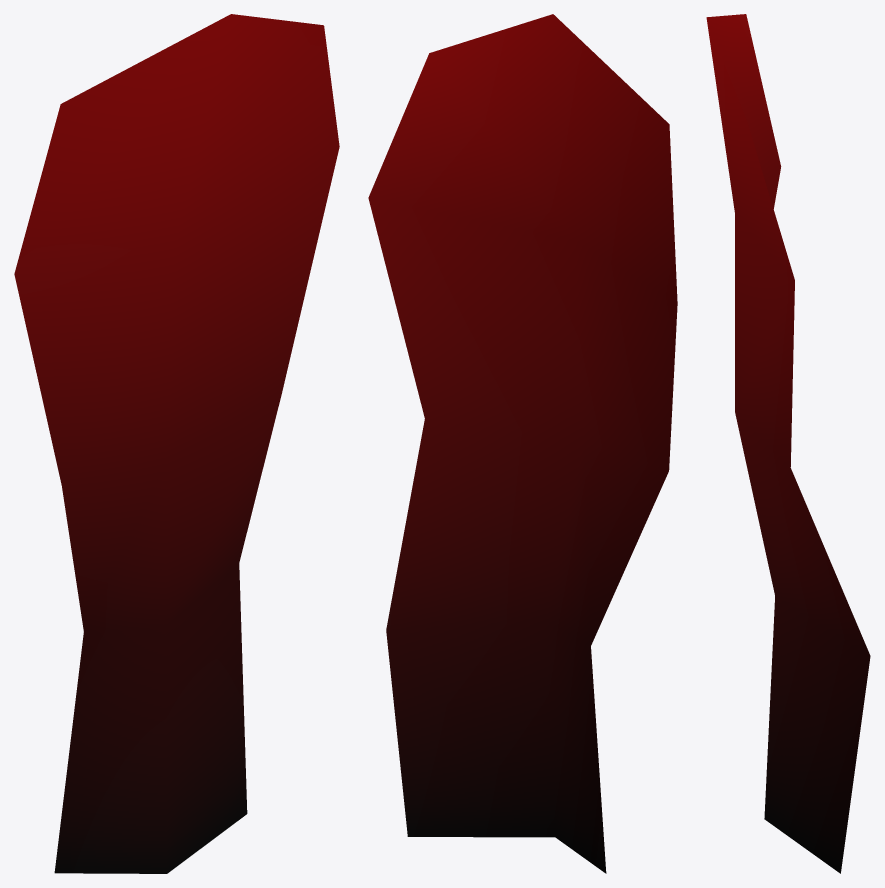
The picture shows the model from 3 angles, left to right: view 1: azimuth 30°, elevation 25°; view 2: azimuth 150°, elevation 25°; view 3: azimuth 270°, elevation 25°; orthographic projection. The views are drawn at different scales.
Parts seen in each view (by area): view 1: Cystoseira.001; view 2: Cystoseira.001; view 3: Cystoseira.001.
Boxes of the visible parts, bbox=[...] form: Cystoseira.001: bbox=[14, 14, 339, 873]; Cystoseira.001: bbox=[368, 14, 677, 873]; Cystoseira.001: bbox=[706, 14, 870, 873].
Size of the model in its own units: 0.3597 by 0.9036 by 0.1645.
